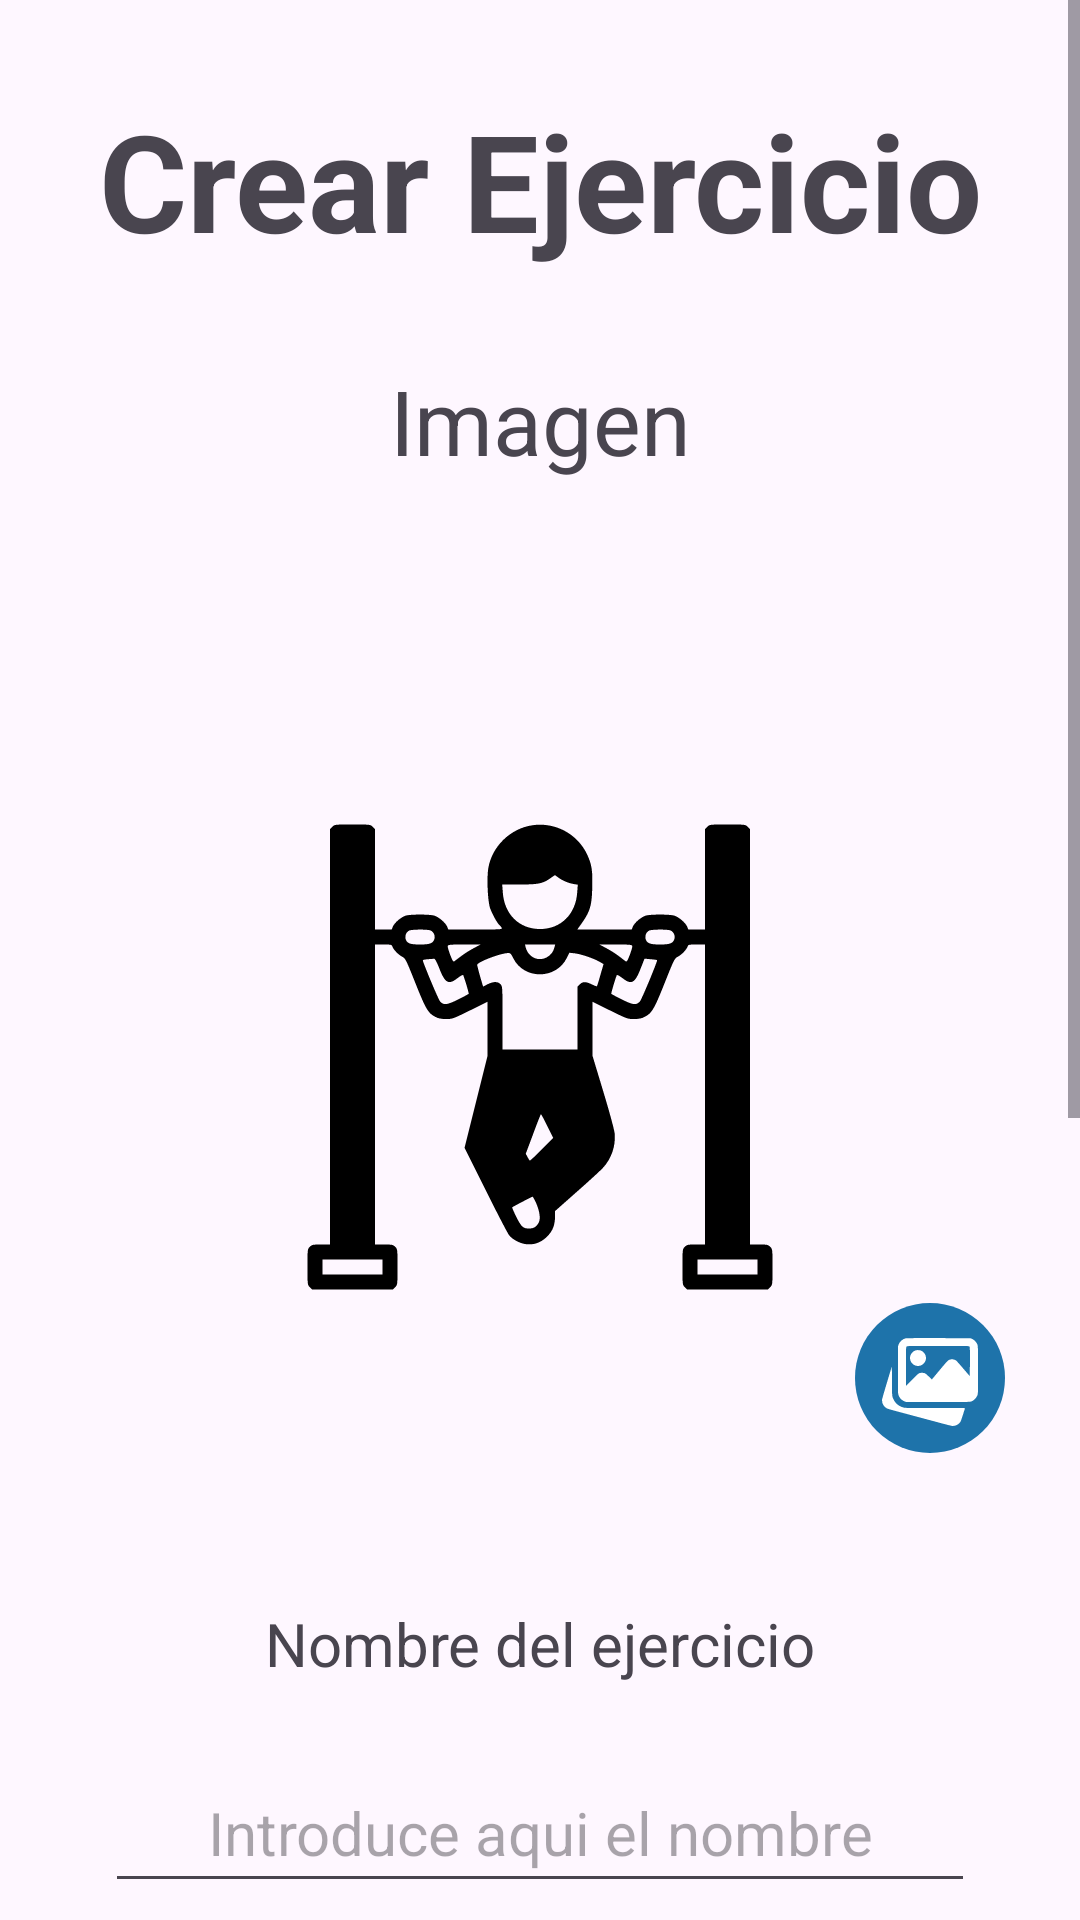

Icons on this 1080x1920 Android screen, each with its box as (x1, y1, x2, y2):
galeria: (855, 1303, 1005, 1453)
